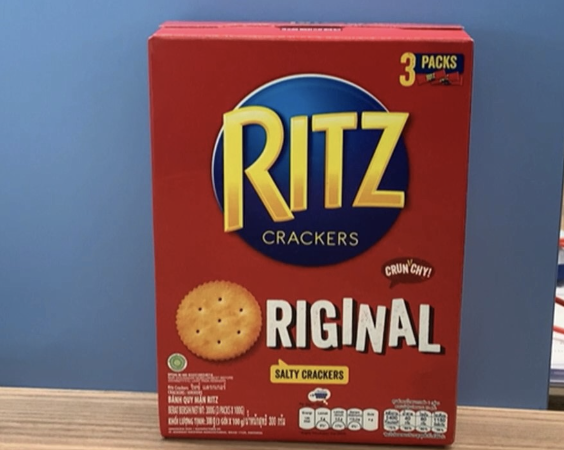crackers_150g: (158, 45, 455, 438)
